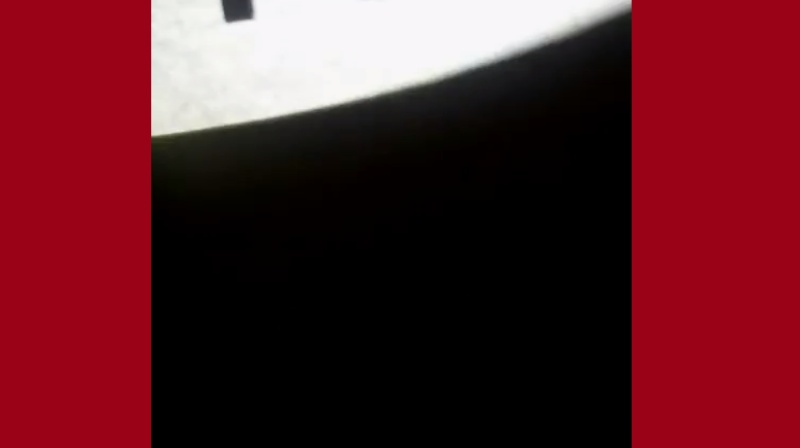O002: (204, 0, 388, 27)
